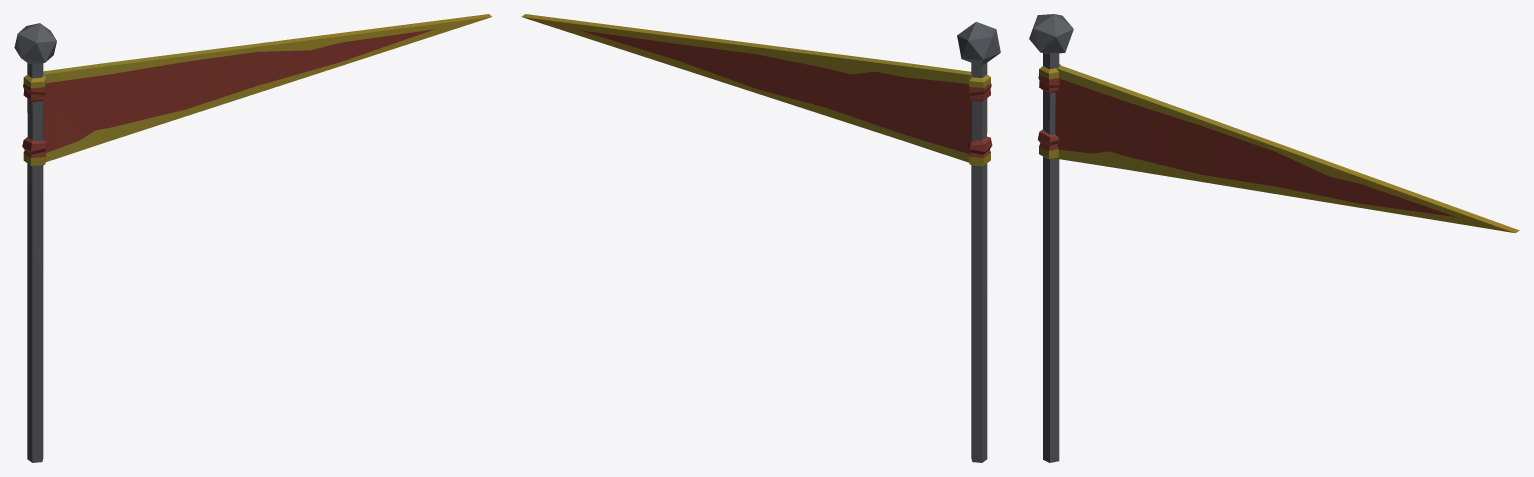
Rendered from SM_Prop_Flag_01.glb.
The picture shows the model from 3 angles, left to right: view 1: azimuth 30°, elevation 25°; view 2: azimuth 150°, elevation 25°; view 3: azimuth 330°, elevation 25°; orthographic projection. The views are drawn at different scales.
Visible parts, largest first — view 1: SM_Prop_Flag_01; view 2: SM_Prop_Flag_01; view 3: SM_Prop_Flag_01.
Part boxes in pixels (x1,y1,x2,y2): SM_Prop_Flag_01: (14,14,491,462); SM_Prop_Flag_01: (521,14,1000,462); SM_Prop_Flag_01: (1029,14,1519,462).
Bounding box in the file's own units: 369 × 325 × 27.47.
Materials: 1 (1 with a texture image).
